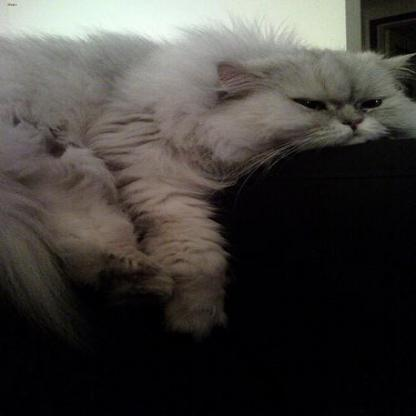cat: (0, 35, 414, 328)
